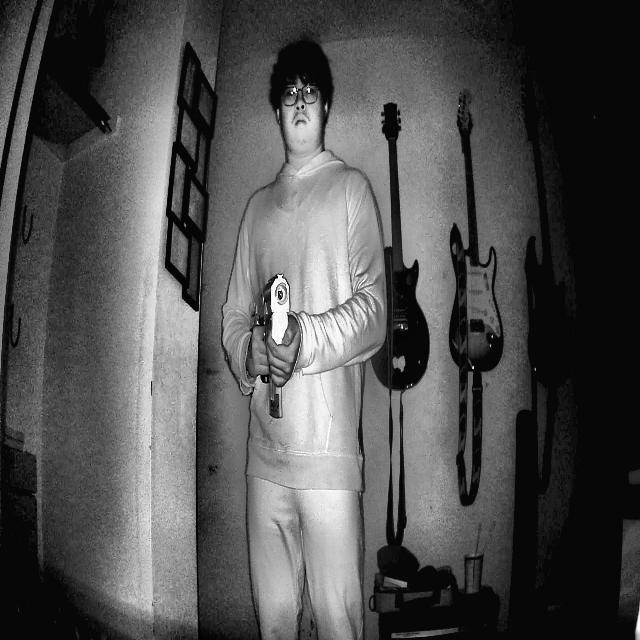Nerf_Blaster: (242, 271, 308, 427)
